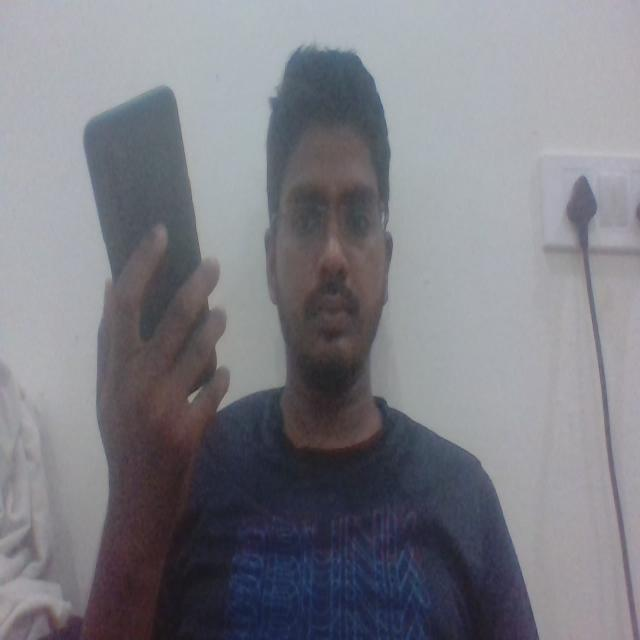Phone: (80, 82, 214, 384)
